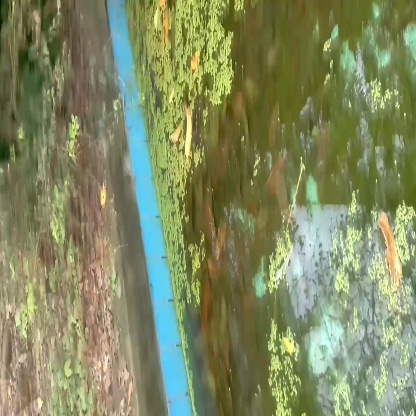leaf: (370, 211, 407, 284)
